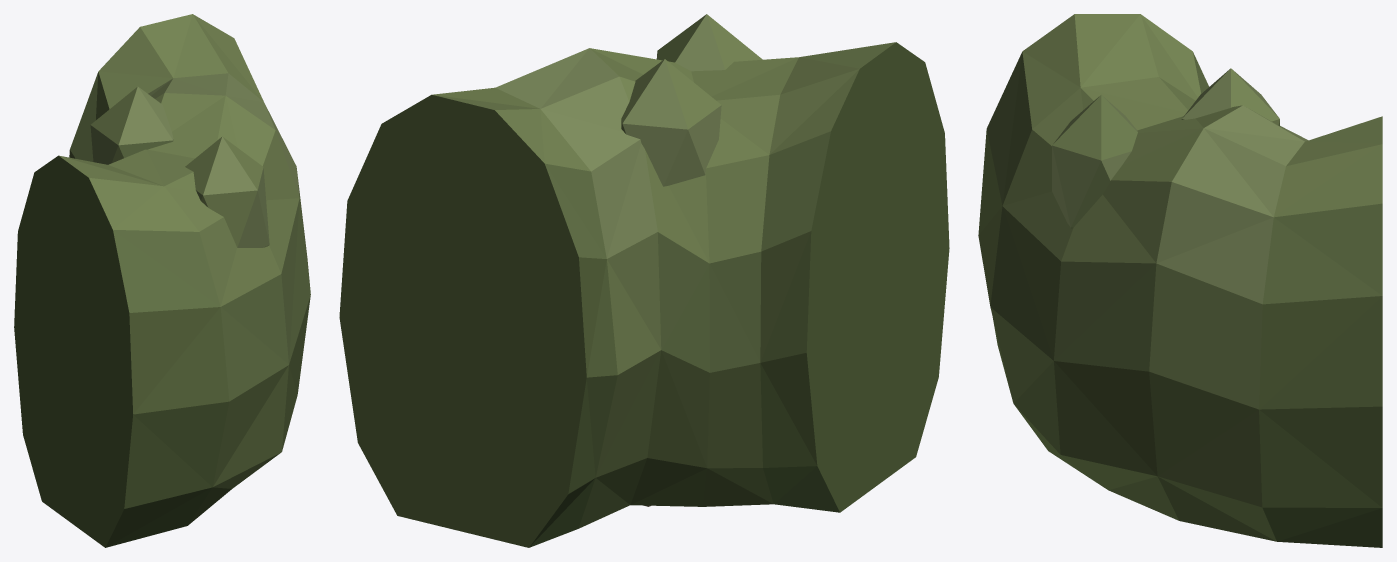
Rendered from lwf_hedge_corner_90_v1.glb.
The picture shows the model from 3 angles, left to right: view 1: azimuth 30°, elevation 25°; view 2: azimuth 150°, elevation 25°; view 3: azimuth 270°, elevation 25°; orthographic projection. The views are drawn at different scales.
Parts seen in each view (by area): view 1: lwf_hedge_corner_90_v1; view 2: lwf_hedge_corner_90_v1; view 3: lwf_hedge_corner_90_v1.
Part boxes in pixels (x1,y1,x2,y2): lwf_hedge_corner_90_v1: (14, 14, 310, 547); lwf_hedge_corner_90_v1: (339, 14, 949, 547); lwf_hedge_corner_90_v1: (978, 14, 1382, 547).
Bounding box in the file's own units: 1.47 × 1.71 × 1.47.
Materials: 1 (1 with a texture image).
